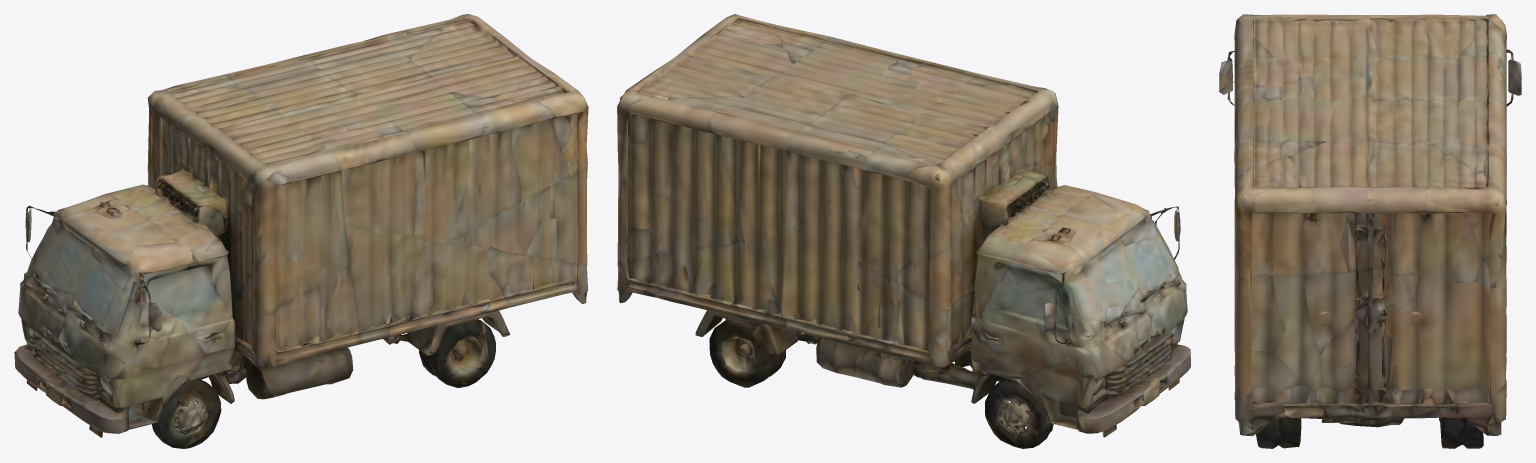
Rendered from car_delivery_light_q2.glb.
3 renders of one model, left to right at view 1: azimuth 30°, elevation 25°; view 2: azimuth 150°, elevation 25°; view 3: azimuth 270°, elevation 25°, orthographic. The views are drawn at different scales.
Size of the model in its own units: 4.59 by 2.5 by 2.17.
1 material, 1 textured.
